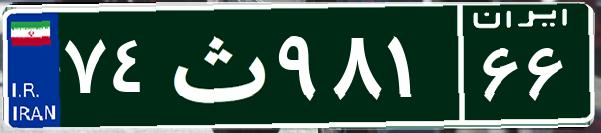1: (385, 28, 445, 110)
4: (110, 28, 158, 105)
6: (475, 38, 525, 113), (525, 38, 570, 115)
7: (57, 26, 110, 107)
8: (330, 28, 385, 110)
9: (273, 28, 330, 110)
ث: (158, 15, 273, 115)
